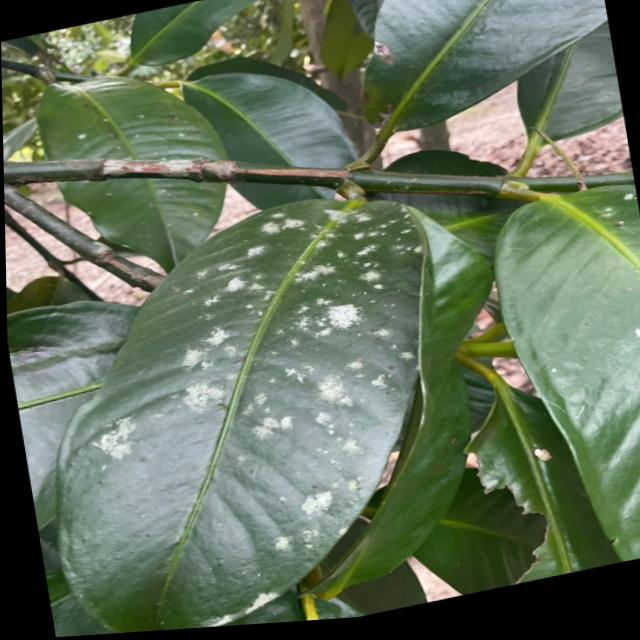Leaf Spot: (123, 284, 420, 478), (228, 184, 421, 345), (251, 472, 374, 564), (85, 409, 156, 483)
